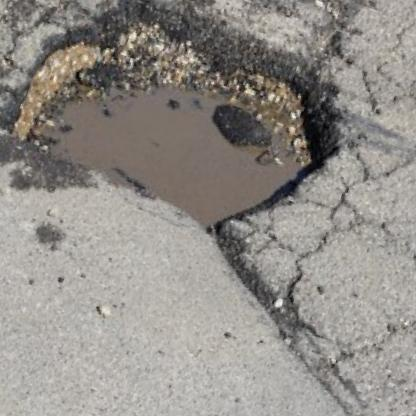pothole: (0, 0, 366, 263)
